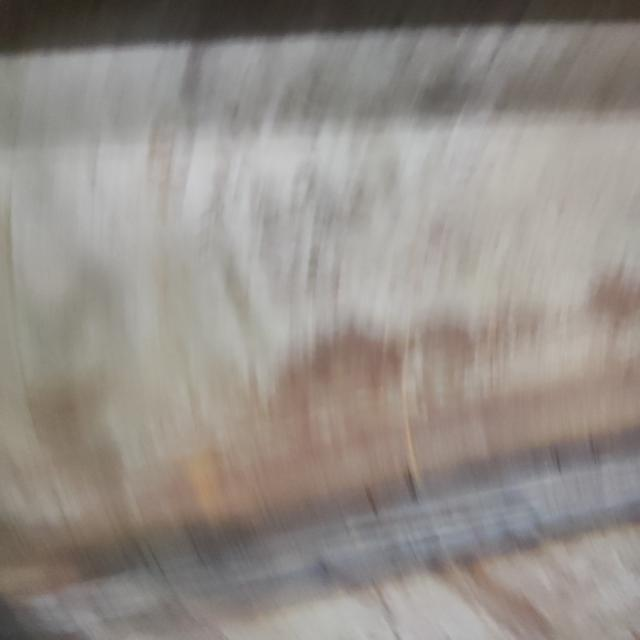seam: (0, 410, 640, 640)
